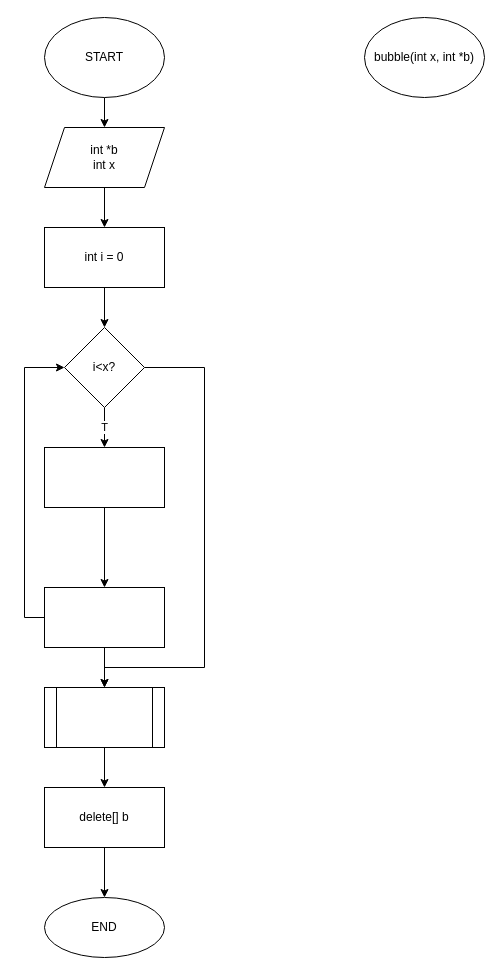
The diagram is 502 pixels wide and 975 high, and some of its shapes have lost their labels. The centre of each missing label's shape, as x and y in pixels:
"b[i] = any integer value" belongs at point 104,477.
"bubble(x, b)" belongs at point 104,717.
"i++" belongs at point 104,617.
